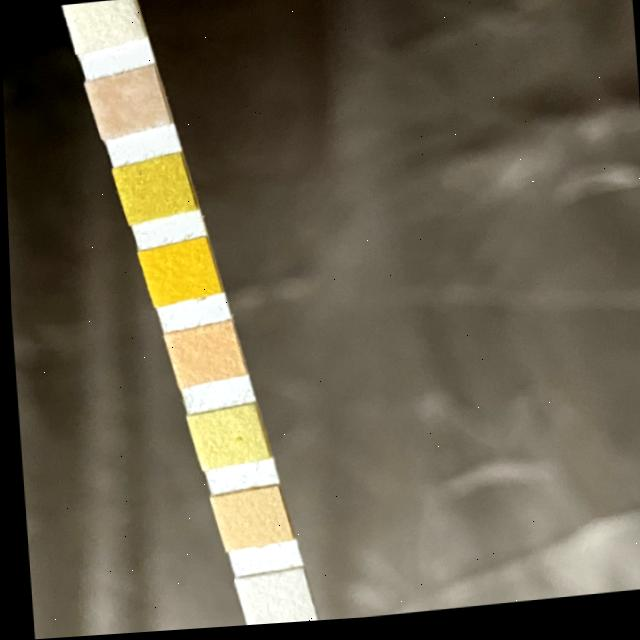Bilirubin: (68, 0, 136, 46)
Blood: (143, 247, 208, 296)
Ketone: (92, 76, 162, 129)
Nitrite: (238, 575, 304, 628)
Protein: (191, 411, 254, 464)
SpGravity: (118, 162, 185, 214)
Urobilinogen: (215, 492, 278, 545)
pH: (169, 329, 234, 382)
